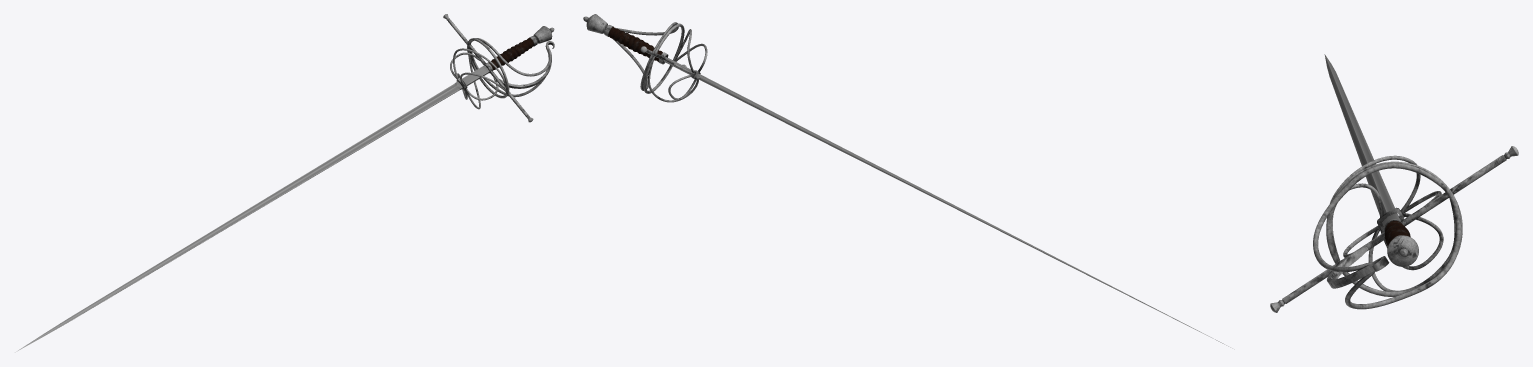
3 views of the same model, side by side, from view 1: azimuth 30°, elevation 25°; view 2: azimuth 150°, elevation 25°; view 3: azimuth 270°, elevation 25° (orthographic). The views are drawn at different scales.
Parts seen in each view (by area): view 1: pCube2, wireShape1, pHelix1, pCylinder3; view 2: pCube2, pHelix1, wireShape1, pTorus1; view 3: wireShape1, pCube2, pCylinder3, pTorus1, pCube1, pCylinder8, wireShape4, wireShape8, wireShape5, pHelix1, wireShape6, wireShape9 (+2 smaller).
Part boxes in pixels (x1,y1,x2,y2): pCube2: [15, 65, 489, 352]; wireShape1: [469, 38, 551, 97]; pHelix1: [488, 38, 534, 70]; pCylinder3: [443, 14, 533, 122]; pCube2: [663, 57, 1234, 349]; pHelix1: [608, 26, 662, 61]; wireShape1: [612, 22, 678, 90]; pTorus1: [643, 23, 684, 93]; wireShape1: [1313, 163, 1461, 309]; pCube2: [1324, 54, 1400, 227]; pCylinder3: [1270, 146, 1518, 312]; pTorus1: [1326, 161, 1462, 296]; pCube1: [1327, 246, 1389, 288]; pCylinder8: [1387, 235, 1418, 266]; wireShape4: [1327, 155, 1420, 253]; wireShape8: [1368, 199, 1455, 291]; wireShape5: [1380, 213, 1443, 270]; pHelix1: [1385, 221, 1410, 245]; wireShape6: [1331, 183, 1383, 260]; wireShape9: [1343, 225, 1380, 257].
Bounding box in the file's own units: 1.27 × 0.4054 × 0.2432.
Materials: 4 (4 with a texture image).
